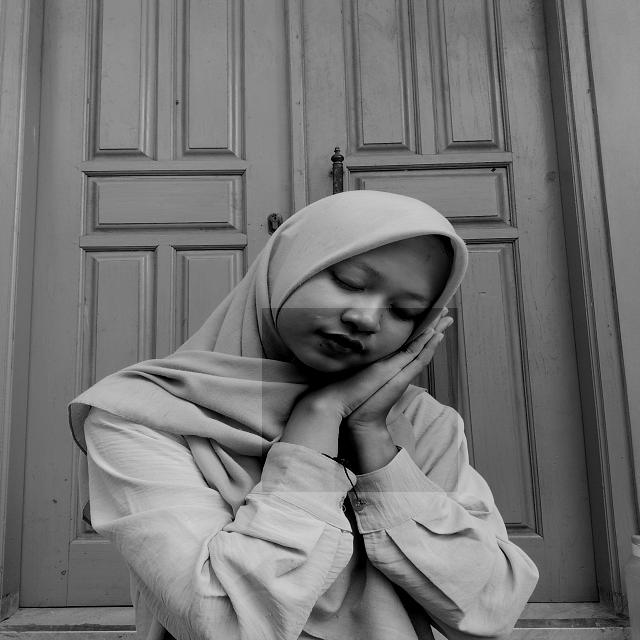tidur: (262, 308, 458, 492)
